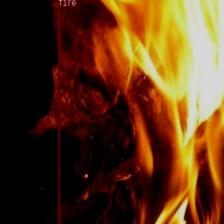fire: (57, 0, 224, 224)
